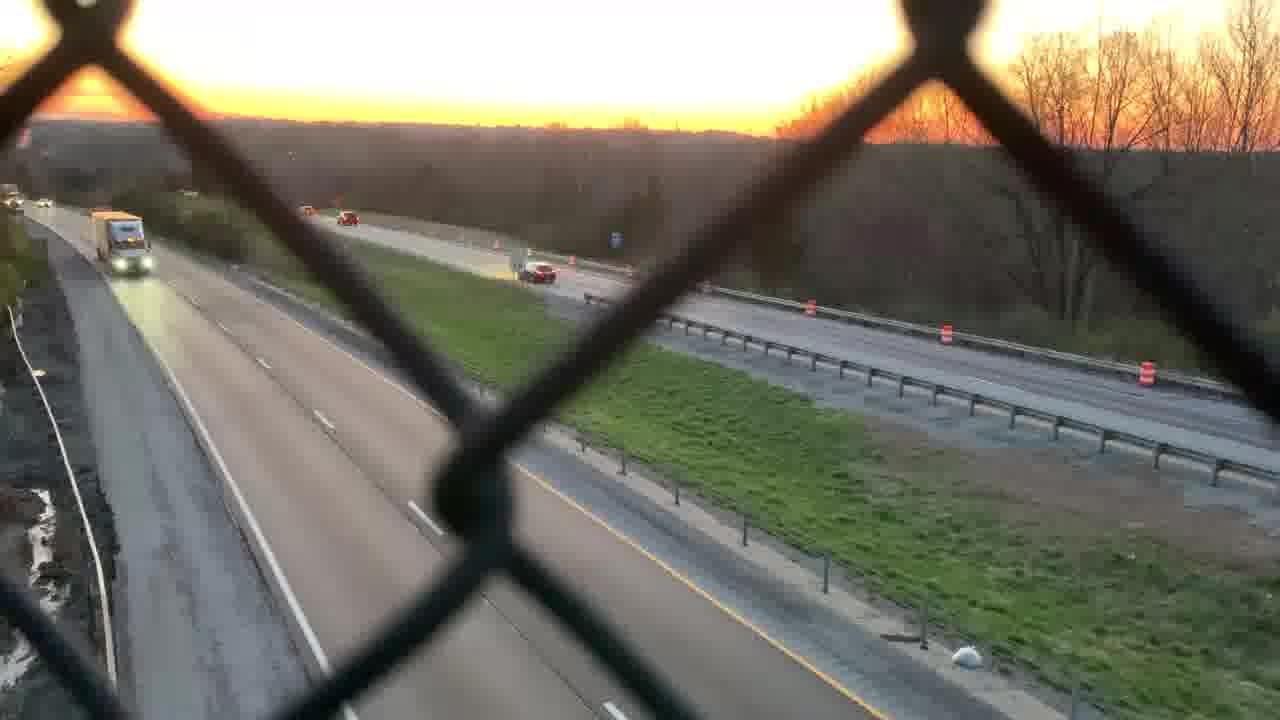heavyTruck: (88, 206, 152, 278), (1, 175, 25, 213)
largeCar: (520, 257, 557, 284)
vehicle: (332, 207, 359, 226), (35, 195, 58, 210), (297, 204, 317, 219)
